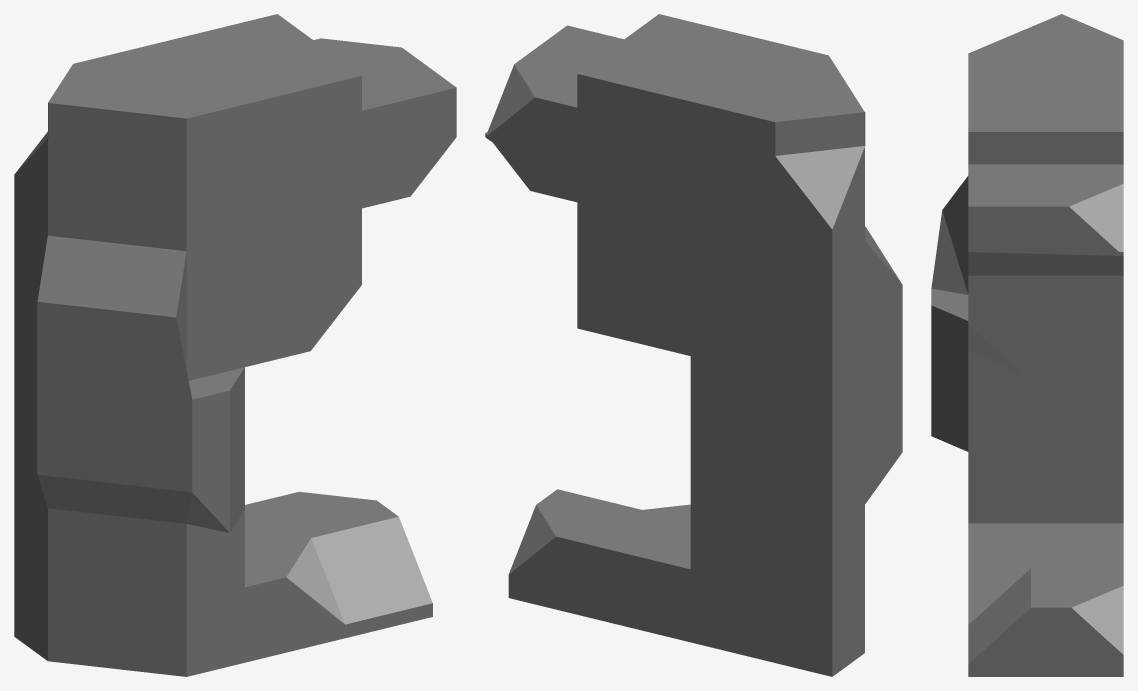
File: ruin_15.fbx
3 renders of one model, left to right at view 1: azimuth 30°, elevation 25°; view 2: azimuth 150°, elevation 25°; view 3: azimuth 270°, elevation 25°, orthographic. The views are drawn at different scales.
Visible parts, largest first — view 1: ruin_15; view 2: ruin_15; view 3: ruin_15.
Boxes of the visible parts, x1,y1,x2,y2 form: ruin_15: (14, 14, 456, 676); ruin_15: (485, 14, 902, 676); ruin_15: (931, 14, 1123, 676).
Size of the model in its own units: 146 by 203 by 69.
